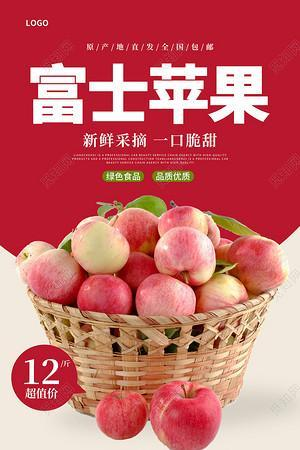apple: (148, 382, 220, 450), (153, 228, 217, 285), (227, 234, 287, 294), (71, 221, 131, 273), (26, 248, 81, 303), (94, 390, 147, 440), (135, 272, 195, 315), (75, 272, 132, 315), (192, 273, 248, 313), (15, 241, 57, 284)
